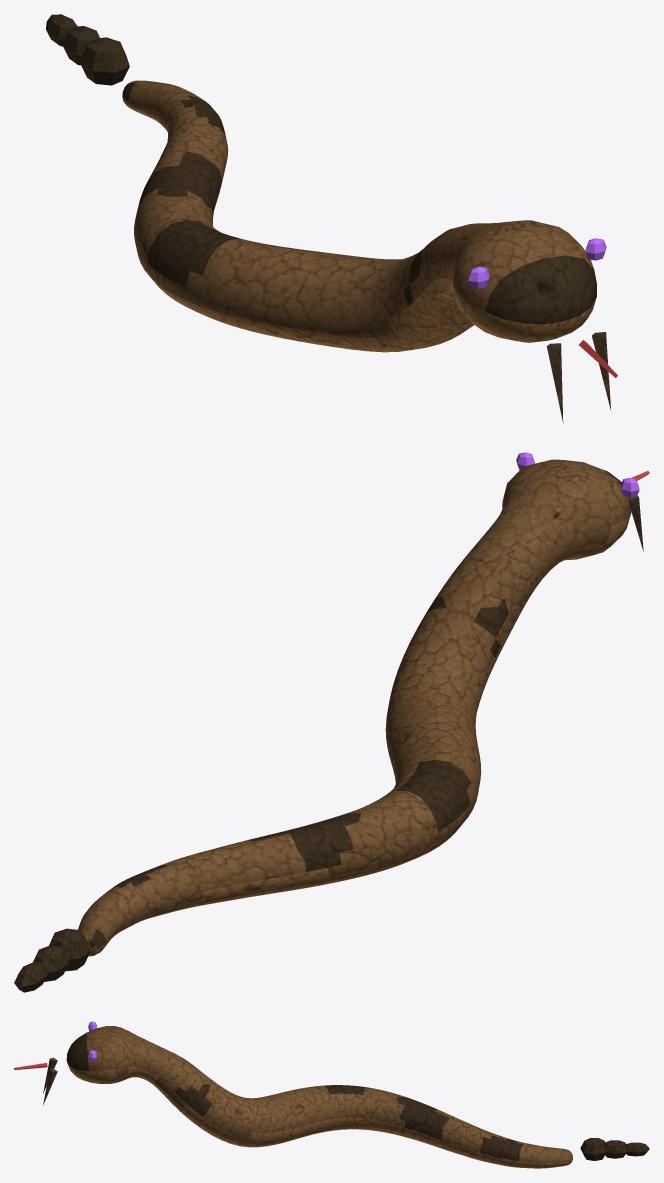
File: mon_serp_04.glb
3 views of the same model, one above another, from view 1: azimuth 30°, elevation 25°; view 2: azimuth 150°, elevation 25°; view 3: azimuth 270°, elevation 25° (orthographic). The views are drawn at different scales.
Parts seen in each view (by area): view 1: mon_serp_04; view 2: mon_serp_04; view 3: mon_serp_04.
Boxes of the visible parts, <box> form: mon_serp_04: <box>46,14,617,422</box>; mon_serp_04: <box>14,452,649,992</box>; mon_serp_04: <box>14,1021,649,1168</box>.
Size of the model in its own units: 0.3719 by 0.3729 by 1.84.
Materials: 6 (6 with a texture image).
